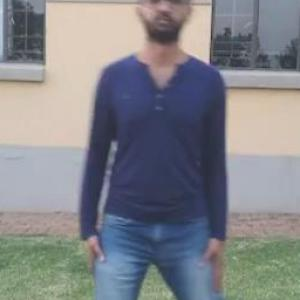follow: (74, 0, 206, 299)
